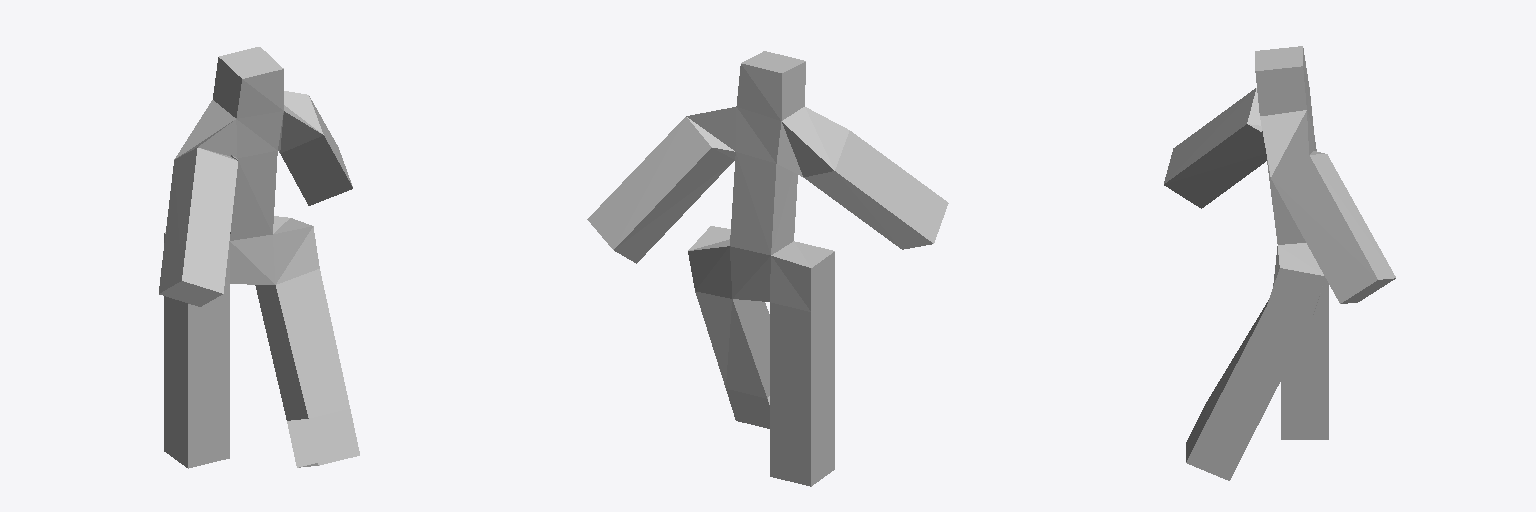
Rendered from cuboid_000010.obj.
3 renders of one model, left to right at view 1: azimuth 30°, elevation 25°; view 2: azimuth 150°, elevation 25°; view 3: azimuth 270°, elevation 25°, orthographic.
Parts seen in each view (by area): view 1: Cube; view 2: Cube; view 3: Cube.
Part boxes in pixels (x1,y1,x2,y2): Cube: (159, 47, 359, 468); Cube: (587, 51, 948, 486); Cube: (1164, 46, 1395, 480).
Bounding box in the file's own units: 3.16 × 4.52 × 2.42.